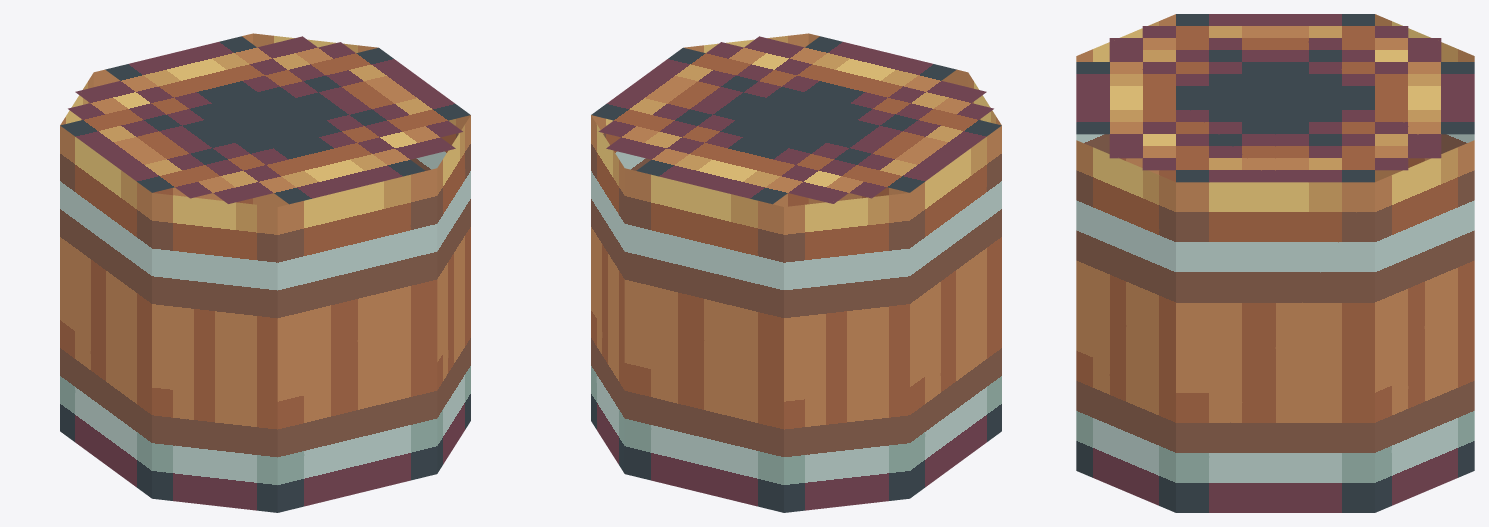
3 renders of one model, left to right at view 1: azimuth 30°, elevation 25°; view 2: azimuth 150°, elevation 25°; view 3: azimuth 270°, elevation 25°, orthographic. The views are drawn at different scales.
Size of the model in its own units: 0.75 by 0.6876 by 0.75.
1 material, 1 textured.
